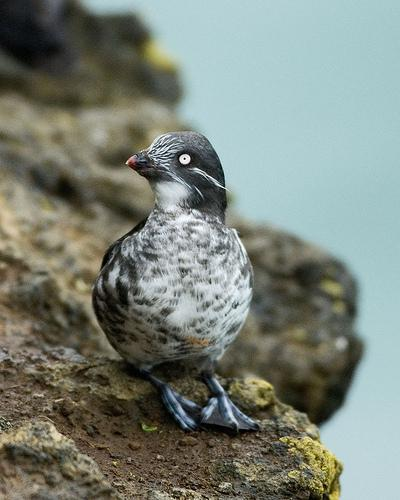006.Least_Auklet: (93, 131, 271, 437)
